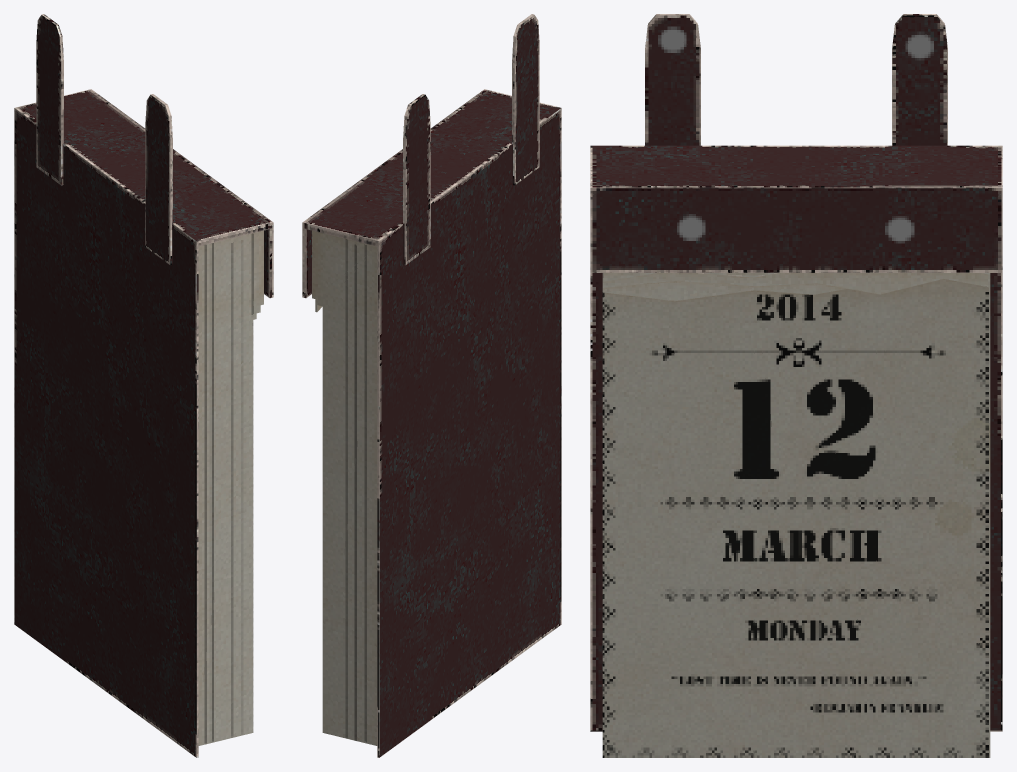
The model's file is Calender_GLB.glb.
3 renders of one model, left to right at view 1: azimuth 30°, elevation 25°; view 2: azimuth 150°, elevation 25°; view 3: azimuth 270°, elevation 25°, orthographic. The views are drawn at different scales.
Visible parts, largest first — view 1: PSX_Calender; view 2: PSX_Calender; view 3: PSX_Calender.
Part boxes in pixels (x1,y1,x2,y2): PSX_Calender: (14,14,273,757); PSX_Calender: (302,14,561,757); PSX_Calender: (590,14,1002,757).
Bounding box in the file's own units: 0.0419 × 0.3195 × 0.167.
1 material, 1 textured.
